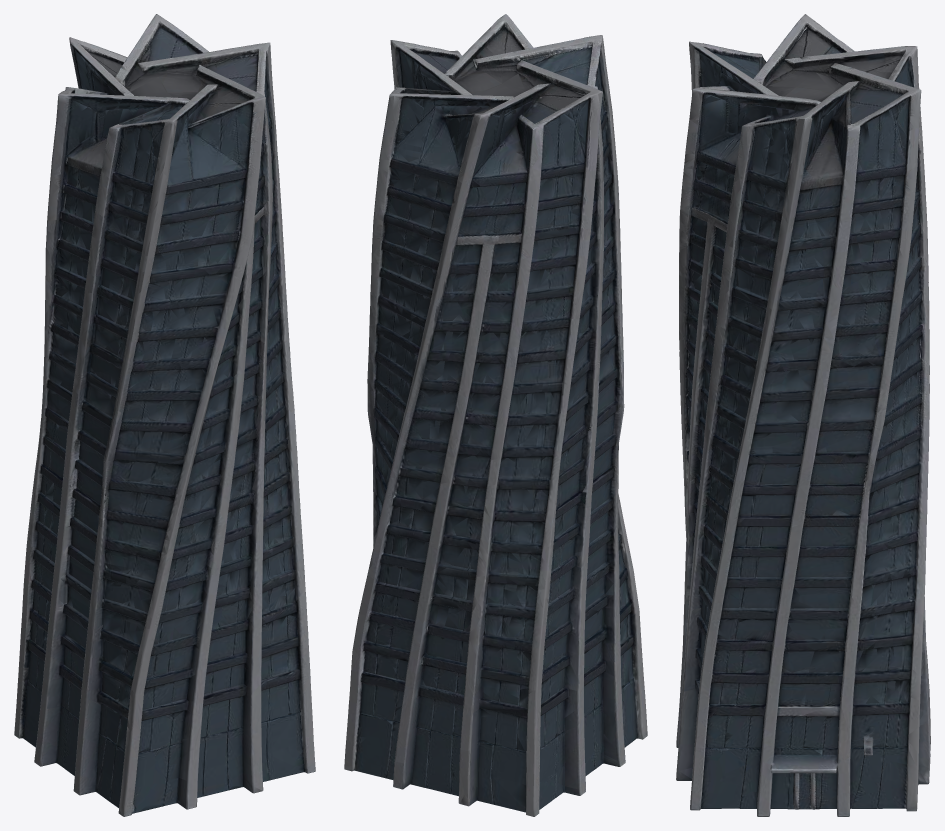
The model's file is tawer.fbx.
The picture shows the model from 3 angles, left to right: view 1: azimuth 30°, elevation 25°; view 2: azimuth 150°, elevation 25°; view 3: azimuth 270°, elevation 25°; orthographic projection.
Parts seen in each view (by area): view 1: tripo_node_338f093c-52c8-4ab4-b8ec-93d8e184684c; view 2: tripo_node_338f093c-52c8-4ab4-b8ec-93d8e184684c; view 3: tripo_node_338f093c-52c8-4ab4-b8ec-93d8e184684c.
Part boxes in pixels (<box>): tripo_node_338f093c-52c8-4ab4-b8ec-93d8e184684c: <box>14,14,315,816</box>; tripo_node_338f093c-52c8-4ab4-b8ec-93d8e184684c: <box>344,14,647,816</box>; tripo_node_338f093c-52c8-4ab4-b8ec-93d8e184684c: <box>676,14,930,816</box>.
Bounding box in the file's own units: 70.06 × 207 × 68.47.
